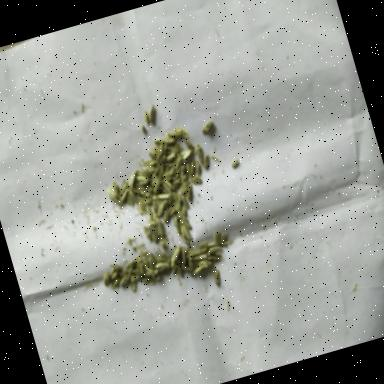pbw: (176, 210, 194, 234), (154, 258, 174, 278), (170, 152, 188, 174), (152, 216, 168, 240), (159, 204, 176, 226), (193, 142, 207, 168), (123, 188, 138, 212), (168, 246, 186, 266), (106, 192, 124, 210), (174, 122, 190, 142), (153, 134, 173, 150), (211, 270, 227, 290), (136, 256, 151, 277), (205, 252, 224, 268), (133, 174, 151, 190), (198, 120, 213, 139), (146, 106, 160, 126), (166, 130, 182, 146), (200, 155, 214, 173), (206, 245, 224, 259), (186, 160, 198, 180), (100, 272, 112, 290), (118, 272, 132, 287), (170, 176, 185, 190), (148, 158, 162, 173), (150, 178, 163, 194), (190, 176, 204, 190), (192, 252, 208, 264), (142, 113, 152, 129), (166, 184, 176, 199), (149, 151, 160, 161), (222, 234, 230, 246)
